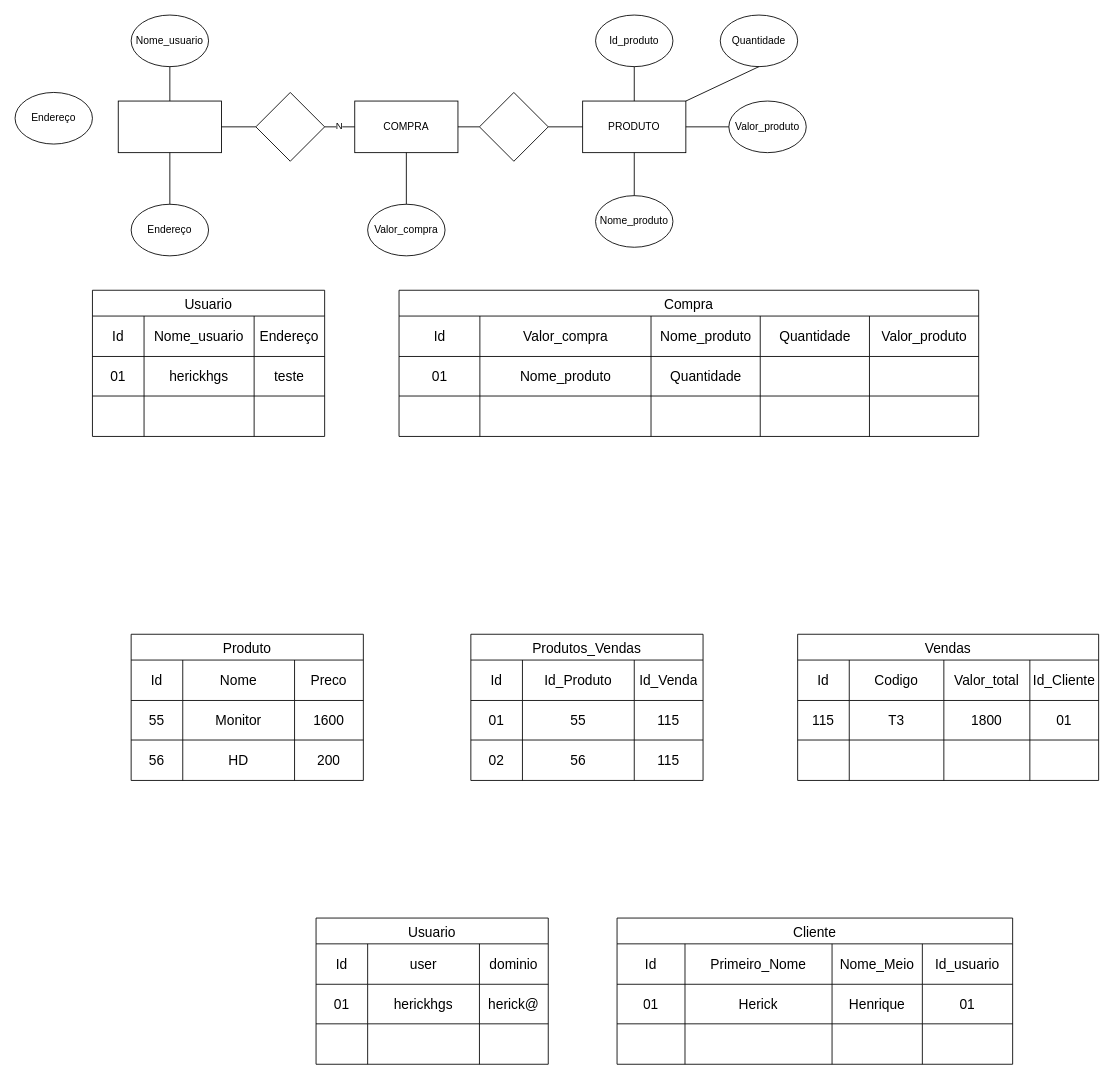
Image size: 1114x1079. Some labels were removed from this diagram. Each missing label, with the centre of its shape:
"POSSUI" goes at (513,126).
"REALIZA" goes at (290,126).
"USUÁRIO" goes at (169,126).
